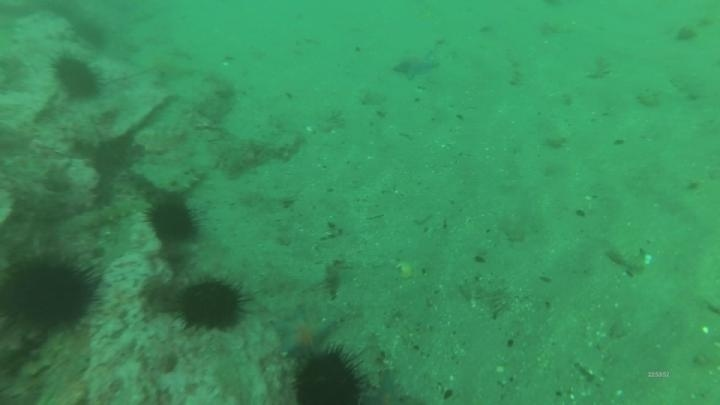echinus: (1, 251, 100, 336), (290, 344, 369, 405), (173, 273, 249, 334), (144, 195, 202, 247), (50, 51, 104, 103)
holothurian: (63, 196, 141, 234)
starfish: (270, 307, 335, 361), (360, 370, 414, 403), (390, 48, 440, 82)
